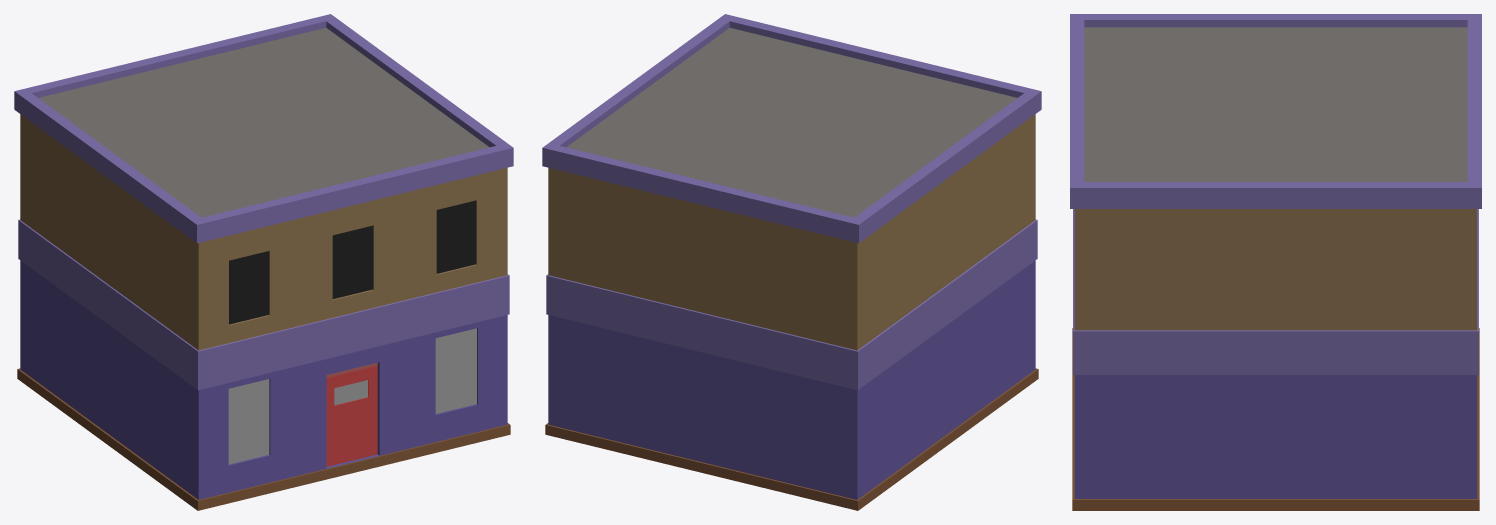
File: Hospital_final.fbx
3 views of the same model, side by side, from view 1: azimuth 30°, elevation 25°; view 2: azimuth 150°, elevation 25°; view 3: azimuth 270°, elevation 25° (orthographic). The views are drawn at different scales.
Parts seen in each view (by area): view 1: Hospital; view 2: Hospital; view 3: Hospital.
Boxes of the visible parts, x1,y1,x2,y2 form: Hospital: (14, 14, 513, 510); Hospital: (542, 14, 1041, 510); Hospital: (1070, 14, 1481, 510).
Bounding box in the file's own units: 1404 × 1218 × 1404.
